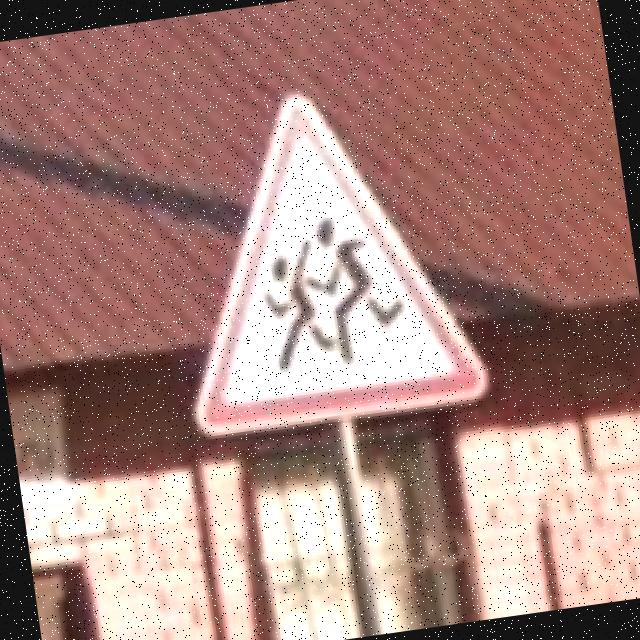Dzieci: (148, 70, 492, 439)
